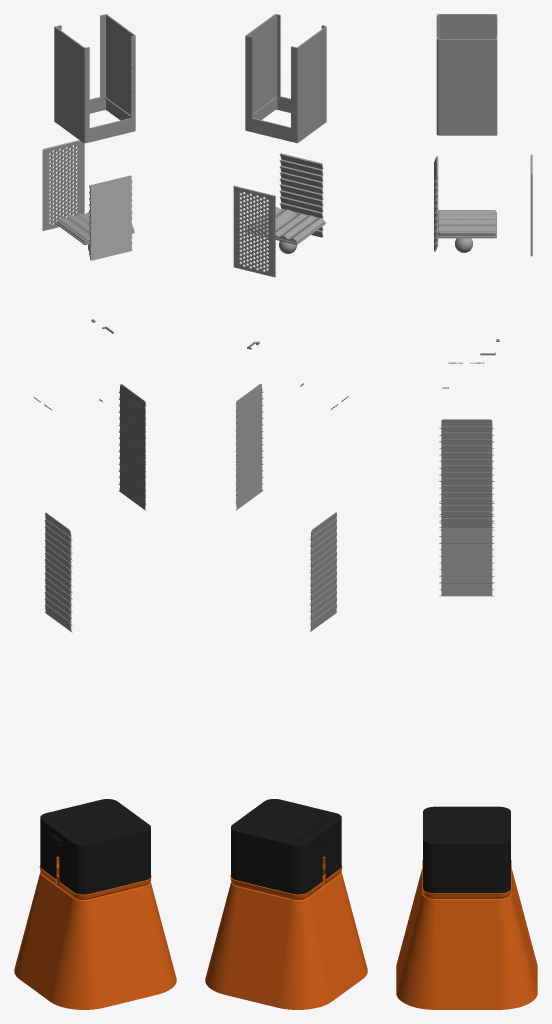
Rendered from zeena.glb.
3 renders of one model, left to right at view 1: azimuth 30°, elevation 25°; view 2: azimuth 150°, elevation 25°; view 3: azimuth 270°, elevation 25°, orthographic.
Visible parts, largest first — view 1: zeena v6; view 2: zeena v6; view 3: zeena v6.
Part boxes in pixels (box(x1,y1,x2,y2)): zeena v6: box(14, 14, 176, 1009); zeena v6: box(205, 14, 367, 1009); zeena v6: box(396, 14, 537, 1009).
Size of the model in its own units: 0.2331 by 1.73 by 0.2331.
